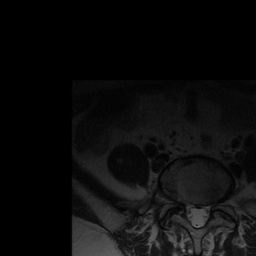CCS_normal: (194, 199, 201, 232)
LFS_severe_stenosis: (210, 195, 218, 216)
LLS_normal: (201, 200, 209, 229)
RFS_severe_stenosis: (178, 191, 185, 213)
RLS_normal: (186, 198, 194, 228)
